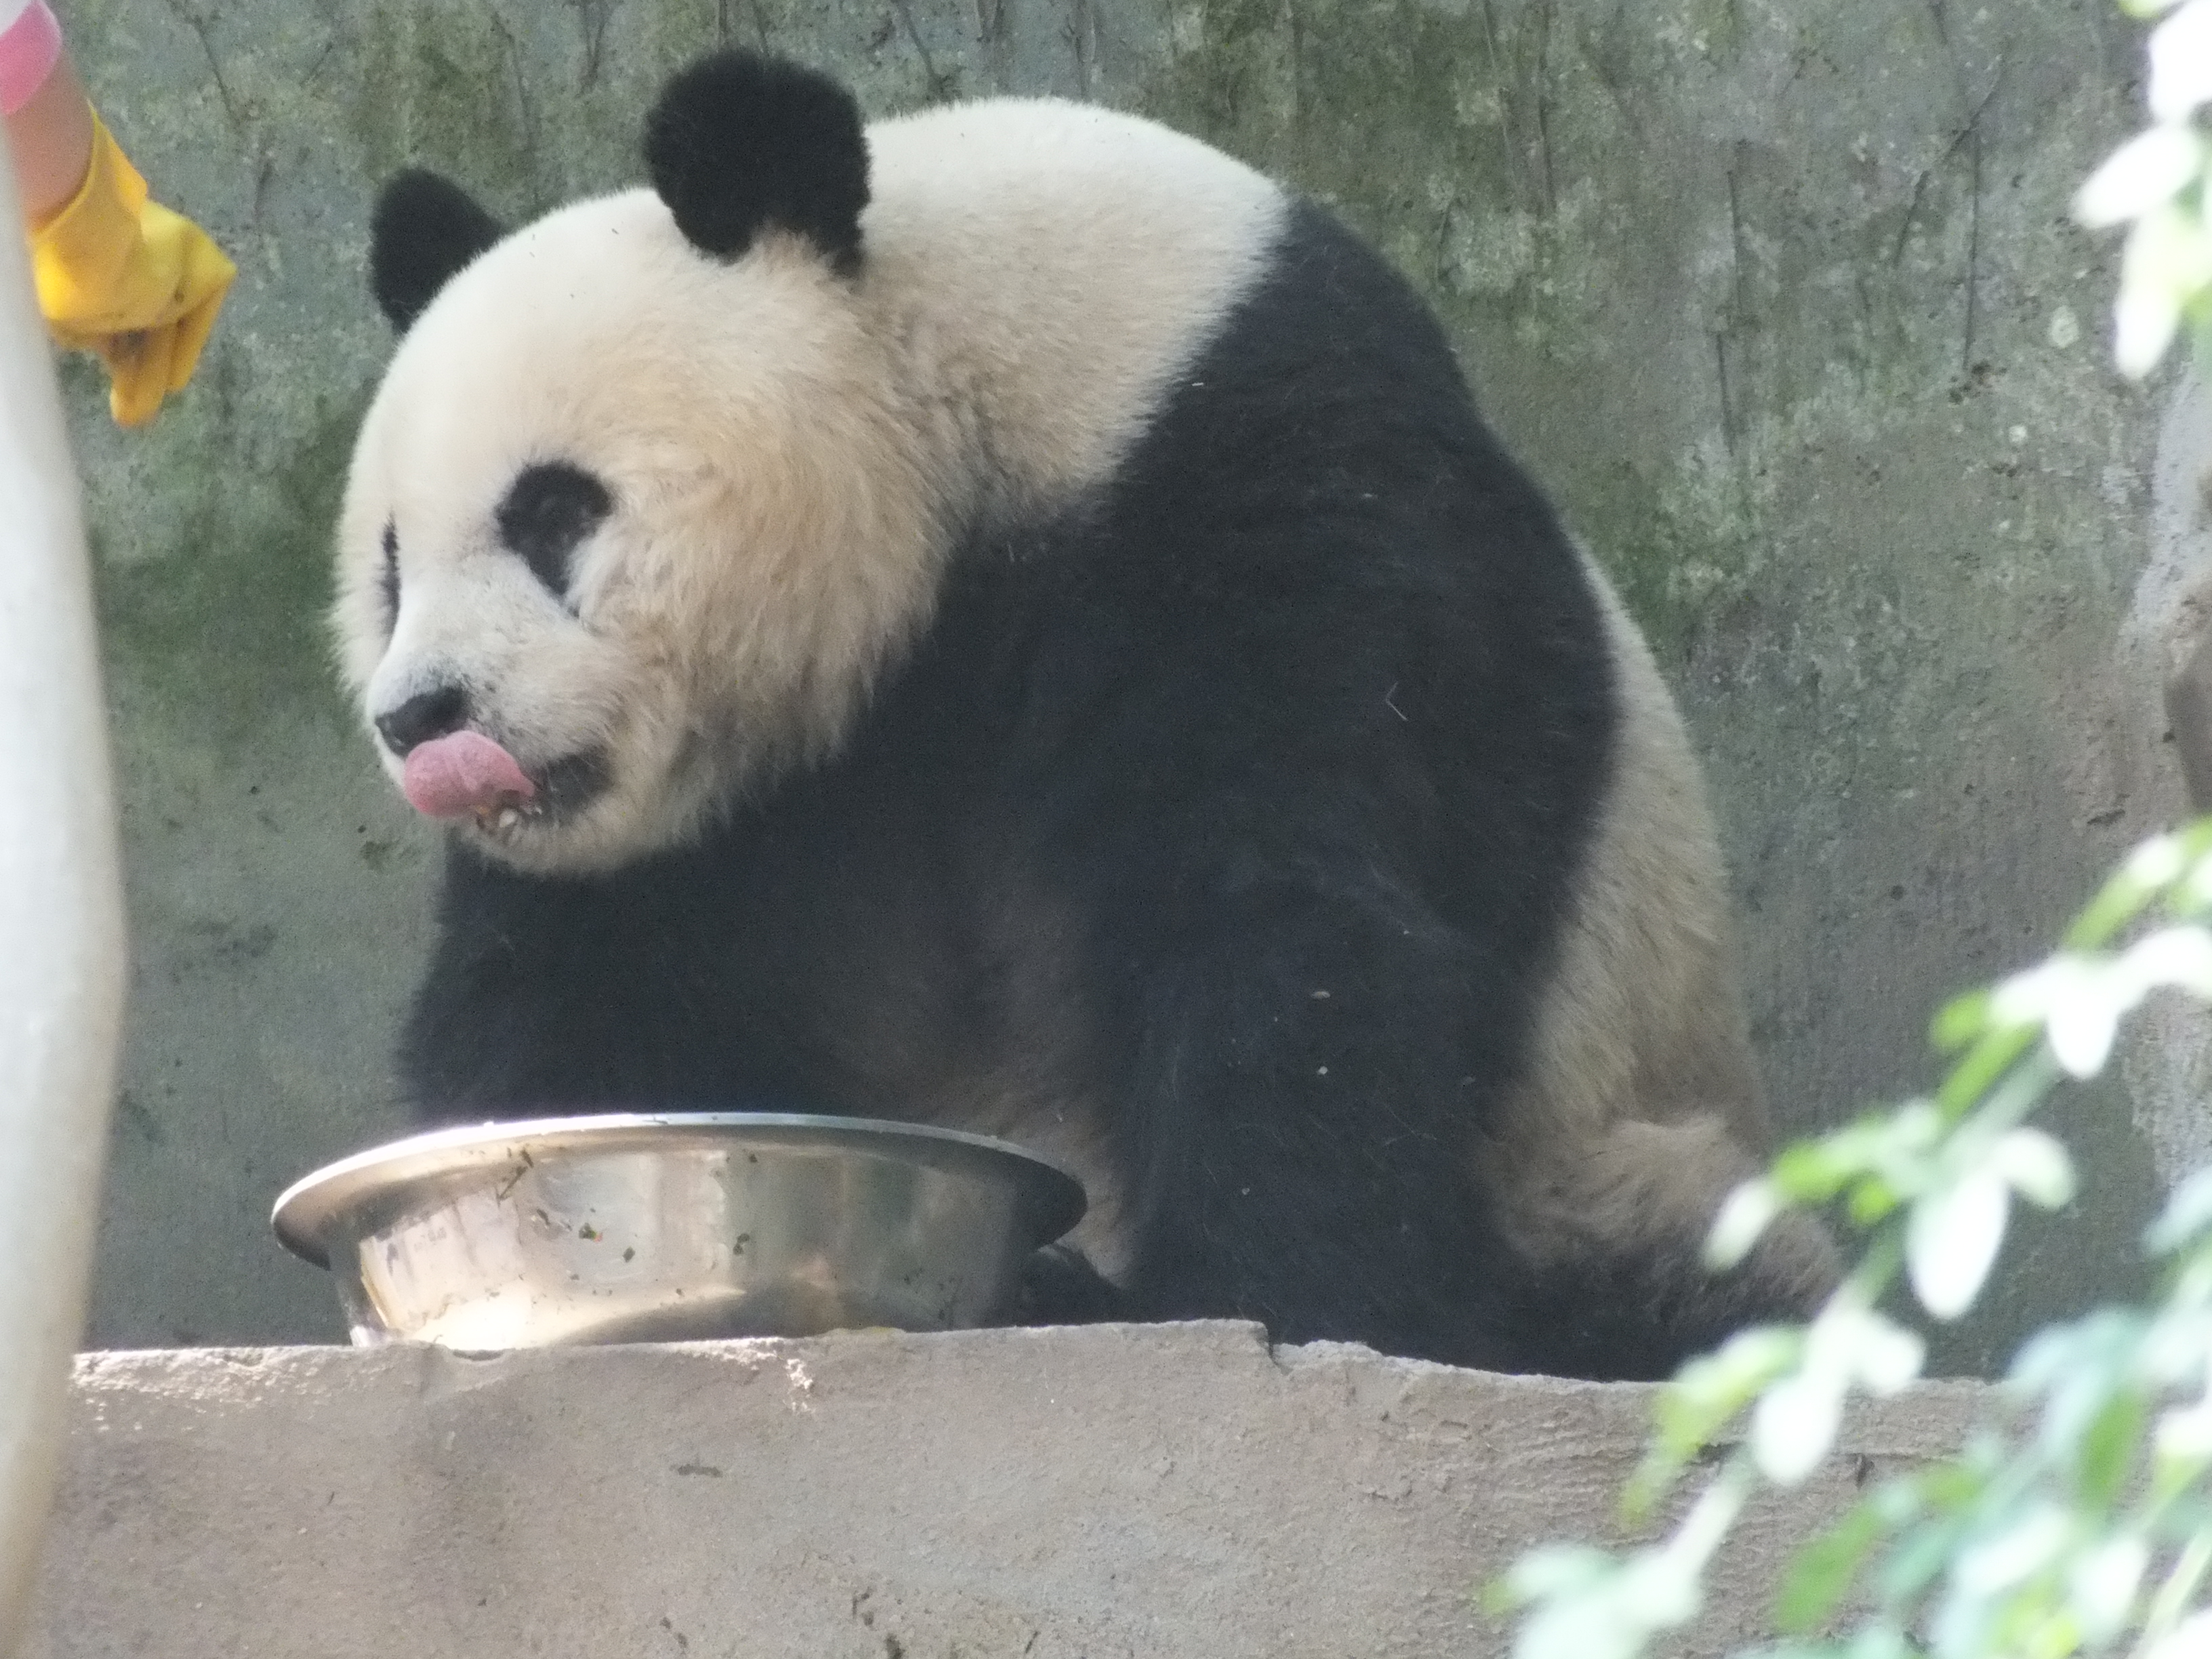panda: (312, 45, 1848, 1375)
